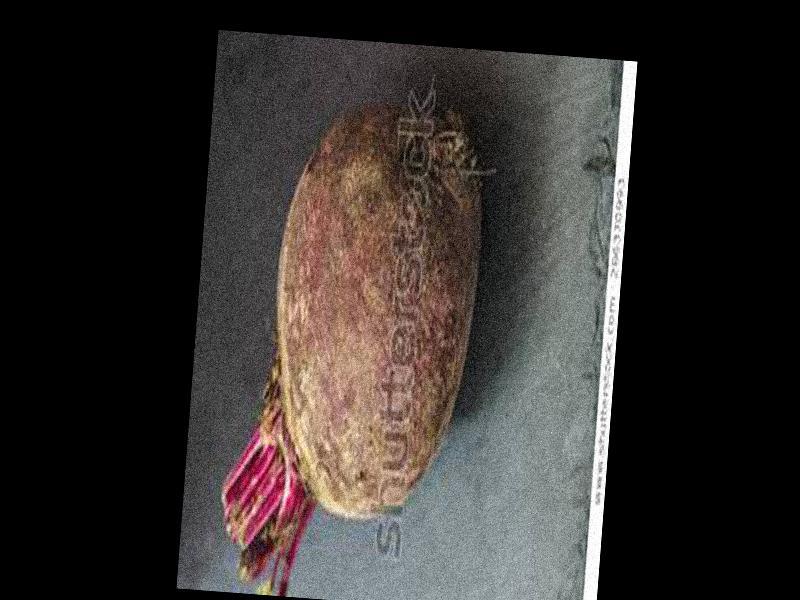Beet: (217, 91, 490, 600)
